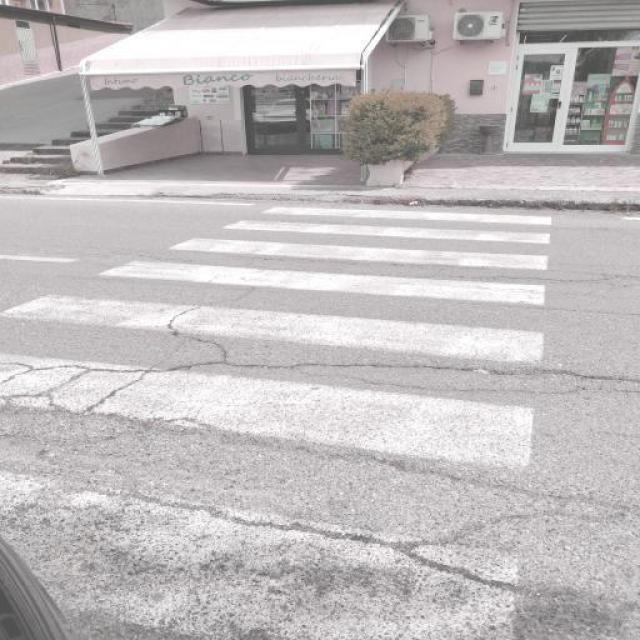crosswalk: (2, 203, 555, 639)
